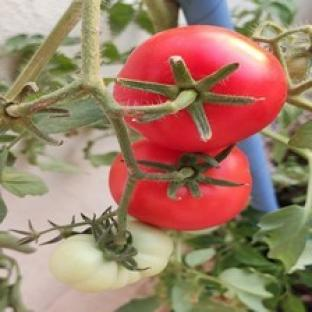Tomato: (119, 26, 286, 151), (129, 148, 252, 231), (51, 221, 172, 292)
